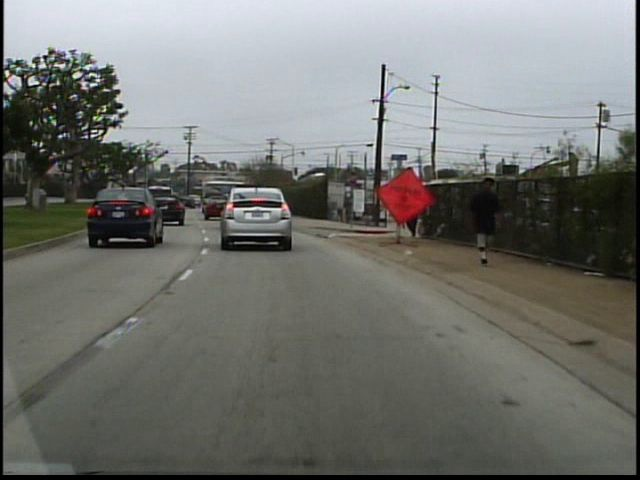person: (464, 170, 504, 272), (398, 183, 426, 242)
